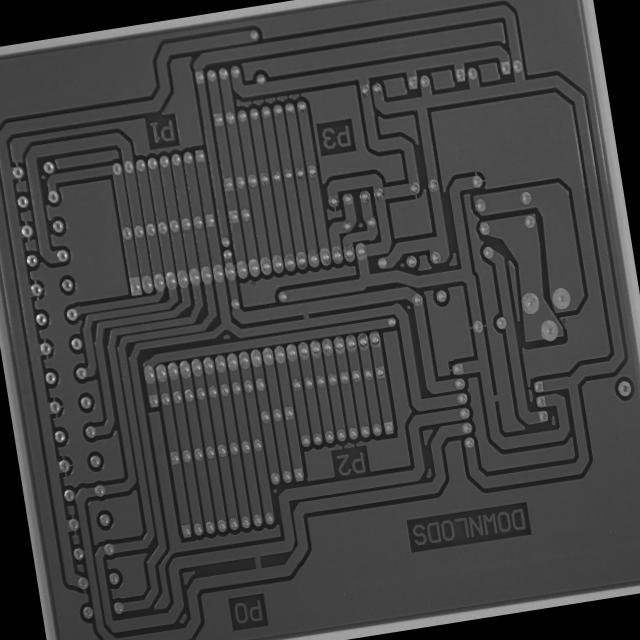short: (238, 536, 276, 586), (483, 376, 511, 416), (290, 298, 320, 332)
